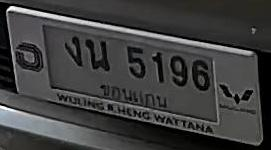number: (61, 31, 212, 92)
province: (97, 80, 169, 110)
